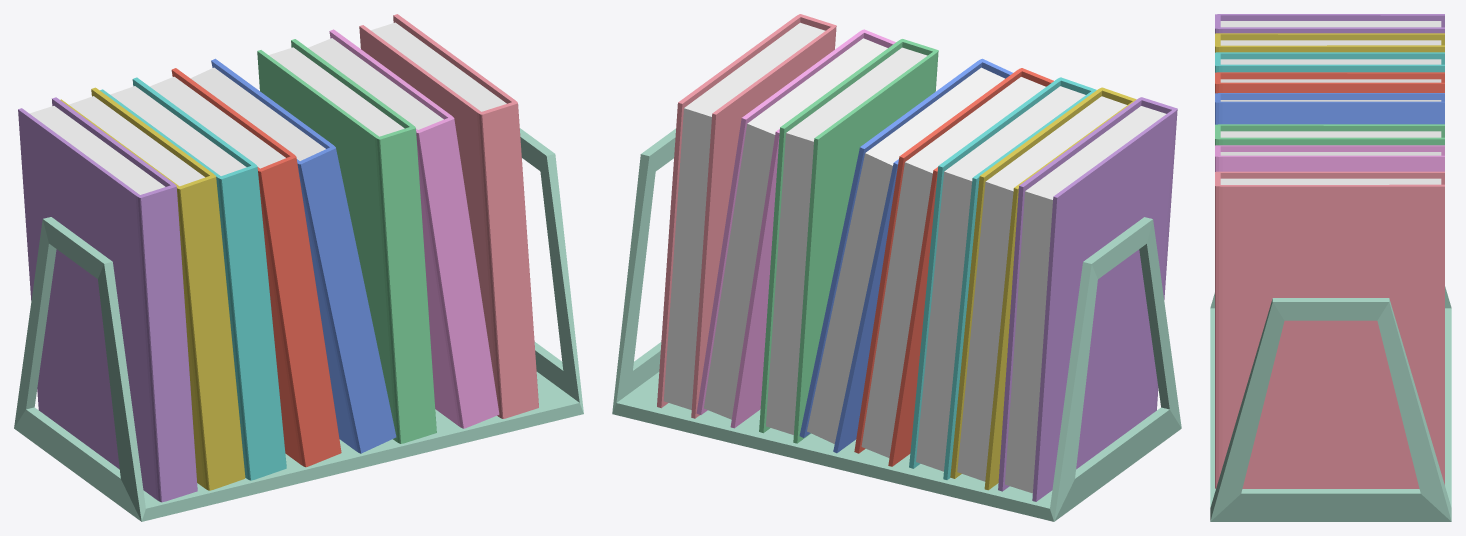
File: books-and-holder.fbx
3 views of the same model, side by side, from view 1: azimuth 30°, elevation 25°; view 2: azimuth 150°, elevation 25°; view 3: azimuth 270°, elevation 25° (orthographic). The views are drawn at different scales.
Parts seen in each view (by area): view 1: Cube.012, Plane, Cube.015, Cube.017, Cube.016, Cube.014, Cube.013, Cube.010, Cube.009; view 2: Cube.012, Plane, Cube.015, Cube.017, Cube.016, Cube.014, Cube.013, Cube.010, Cube.009; view 3: Cube.017, Plane, Cube.014, Cube.016, Cube.015, Cube.013, Cube.009, Cube.012, Cube.010.
Part boxes in pixels (<box>): Cube.012: <box>18,97,197,502</box>; Plane: <box>14,128,583,521</box>; Cube.015: <box>257,39,436,443</box>; Cube.017: <box>359,14,538,418</box>; Cube.016: <box>308,29,499,428</box>; Cube.014: <box>190,58,396,453</box>; Cube.013: <box>150,68,341,467</box>; Cube.010: <box>60,87,245,490</box>; Cube.009: <box>100,77,286,480</box>; Cube.012: <box>998,97,1177,501</box>; Plane: <box>612,128,1181,521</box>; Cube.015: <box>759,39,938,443</box>; Cube.017: <box>657,14,836,418</box>; Cube.016: <box>696,29,895,428</box>; Cube.014: <box>799,58,1012,453</box>; Cube.013: <box>854,68,1053,466</box>; Cube.010: <box>950,87,1136,490</box>; Cube.009: <box>909,77,1096,479</box>; Cube.017: <box>1215,171,1444,488</box>; Plane: <box>1210,286,1451,521</box>; Cube.014: <box>1215,93,1444,124</box>; Cube.016: <box>1215,145,1444,171</box>; Cube.015: <box>1215,124,1444,145</box>; Cube.013: <box>1215,72,1444,93</box>; Cube.009: <box>1215,52,1444,72</box>; Cube.012: <box>1215,14,1444,33</box>; Cube.010: <box>1215,33,1444,52</box>.
Size of the model in its own units: 135 by 92.74 by 66.12.
